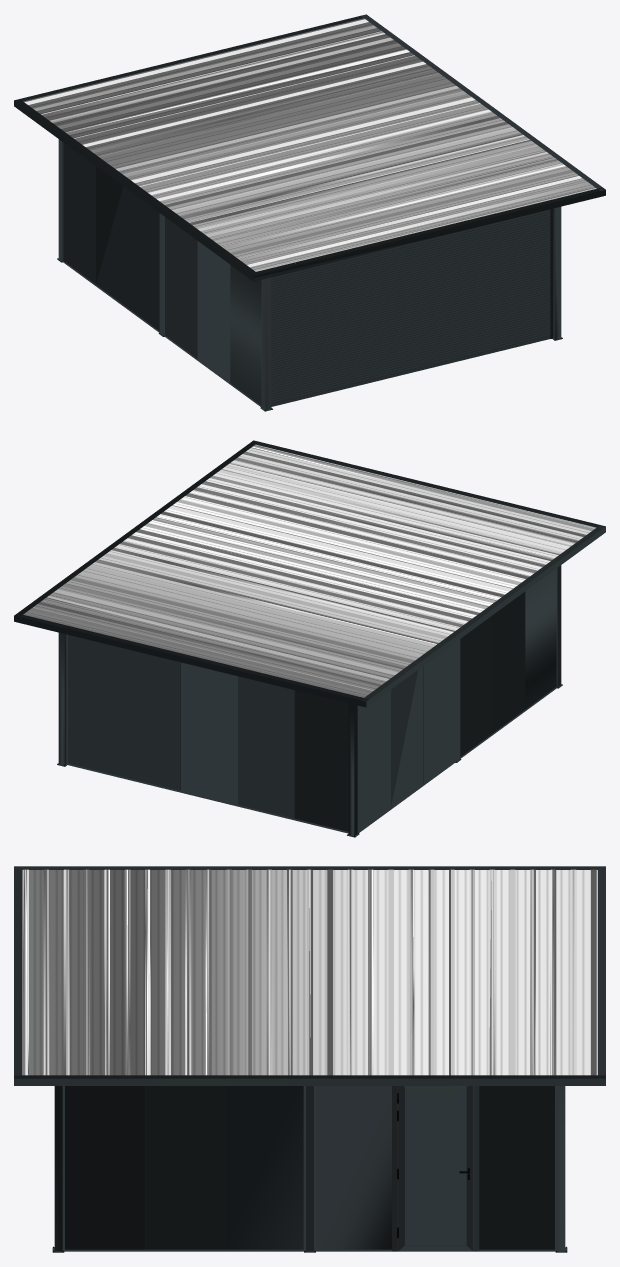
3 views of the same model, one above another, from view 1: azimuth 30°, elevation 25°; view 2: azimuth 150°, elevation 25°; view 3: azimuth 270°, elevation 25° (orthographic). The views are drawn at different scales.
Visible parts, largest first — view 1: priximbattable_net_abris_de_voiture_640017_garage_toit_plat_, lame_13, lame_3, lame_10, lame_8, lame_6, lame_17, lame_15, lame_11, lame_4, lame_2, lame_1 (+9 smaller); view 2: priximbattable_net_abris_de_voiture_640017_garage_toit_plat_; view 3: priximbattable_net_abris_de_voiture_640017_garage_toit_plat_, folha, porta.
Part boxes in pixels (<box>): priximbattable_net_abris_de_voiture_640017_garage_toit_plat_: <box>14,14,605,411</box>; lame_13: <box>272,229,550,303</box>; lame_3: <box>272,300,550,375</box>; lame_10: <box>272,250,550,325</box>; lame_8: <box>272,265,550,339</box>; lame_6: <box>272,279,550,353</box>; lame_17: <box>272,329,550,403</box>; lame_15: <box>272,215,550,289</box>; lame_11: <box>272,243,550,318</box>; lame_4: <box>272,293,550,367</box>; lame_2: <box>272,307,550,382</box>; lame_1: <box>272,315,550,389</box>; priximbattable_net_abris_de_voiture_640017_garage_toit_plat_: <box>14,440,605,837</box>; priximbattable_net_abris_de_voiture_640017_garage_toit_plat_: <box>14,866,605,1252</box>; folha: <box>397,1086,473,1251</box>; porta: <box>392,1086,479,1251</box>.
Size of the model in its own units: 620 by 259 by 730.
1 material, 1 textured.
